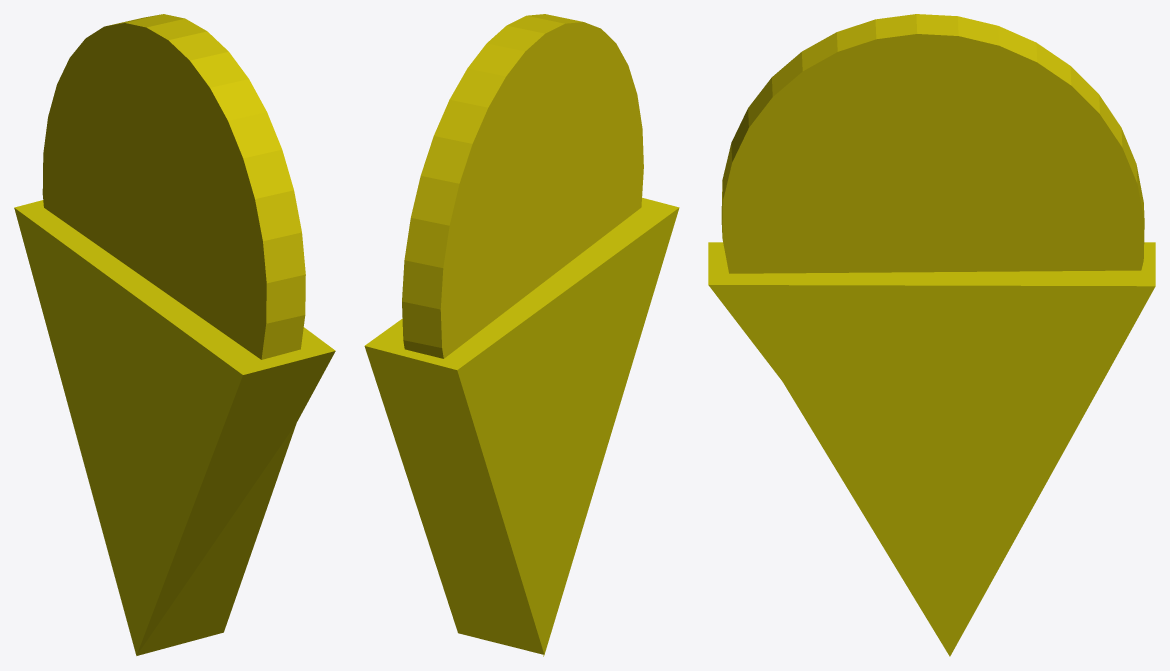
Rendered from yellow_marker.fbx.
3 views of the same model, side by side, from view 1: azimuth 30°, elevation 25°; view 2: azimuth 150°, elevation 25°; view 3: azimuth 270°, elevation 25° (orthographic). The views are drawn at different scales.
Visible parts, largest first — view 1: Cube.001, Cylinder.001; view 2: Cube.001, Cylinder.001; view 3: Cylinder.001, Cube.001.
Boxes of the visible parts, bbox=[...] form: Cube.001: bbox=[14, 200, 335, 655]; Cylinder.001: bbox=[42, 14, 305, 359]; Cube.001: bbox=[364, 197, 679, 656]; Cylinder.001: bbox=[402, 14, 643, 358]; Cylinder.001: bbox=[721, 14, 1144, 273]; Cube.001: bbox=[708, 242, 1155, 656].
Size of the model in its own units: 52.65 by 301 by 200.
